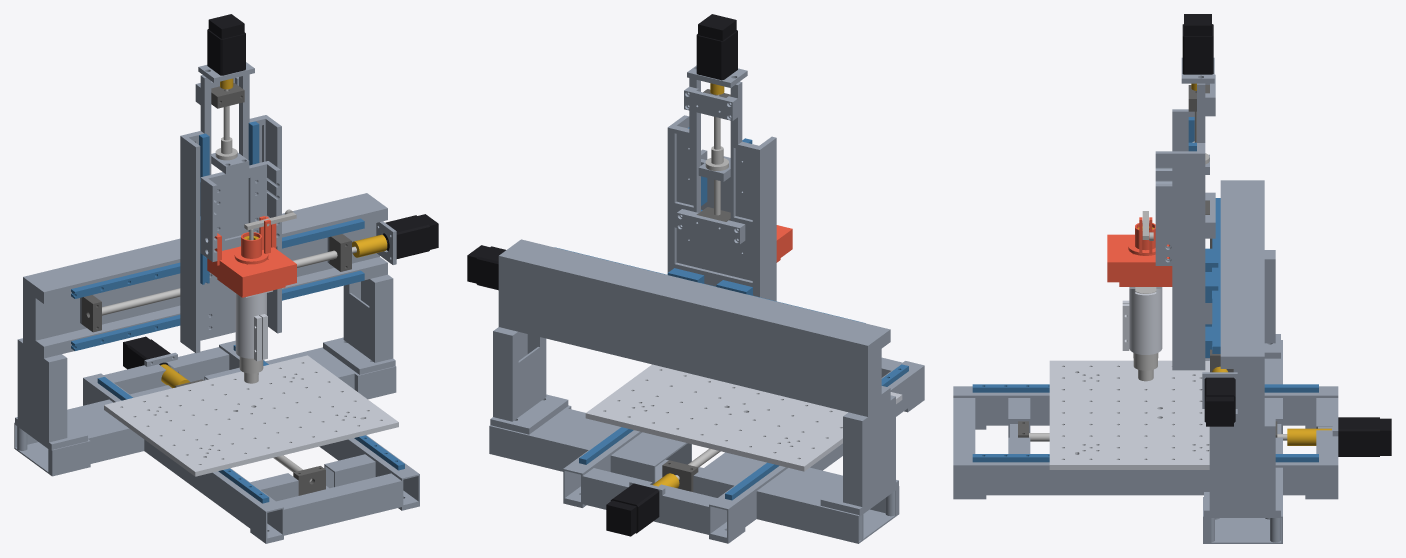
File: standard_center.glb
3 views of the same model, side by side, from view 1: azimuth 30°, elevation 25°; view 2: azimuth 150°, elevation 25°; view 3: azimuth 270°, elevation 25° (orthographic). The views are drawn at different scales.
Visible parts, largest first — view 1: table, beam, x_carriage, frame_cross_rear, z_slide, upright_R, upright_L, frame_longeron_L, frame_cross_front, tooldock_master, frame_cross_end, frame_longeron_R (+19 smaller); view 2: beam, table, frame_cross_rear, x_carriage, upright_R, upright_L, frame_longeron_L, frame_cross_end, z_motor, y_motor, frame_longeron_R, z_bf_bridge (+7 smaller); view 3: table, beam, frame_longeron_R, x_carriage, upright_R, frame_longeron_L, frame_cross_rear, head_mount, tooldock_master, y_motor, z_slide, z_motor (+10 smaller).
Boxes of the visible parts, <box> form: table: <box>104,355,398,476</box>; beam: <box>23,193,396,358</box>; x_carriage: <box>180,74,281,353</box>; frame_cross_rear: <box>14,347,396,476</box>; z_slide: <box>200,161,280,261</box>; upright_R: <box>323,274,395,374</box>; upright_L: <box>15,338,87,449</box>; frame_longeron_L: <box>83,373,283,543</box>; frame_cross_front: <box>276,473,401,535</box>; tooldock_master: <box>207,216,296,296</box>; frame_cross_end: <box>104,347,229,394</box>; frame_longeron_R: <box>219,340,419,510</box>; beam: <box>498,239,890,416</box>; table: <box>585,364,902,471</box>; frame_cross_rear: <box>489,405,899,543</box>; x_carriage: <box>667,78,776,301</box>; upright_R: <box>490,327,568,434</box>; upright_L: <box>820,395,898,515</box>; frame_longeron_L: <box>709,361,924,543</box>; frame_cross_end: <box>582,468,717,534</box>; z_motor: <box>696,14,737,80</box>; y_motor: <box>606,483,659,536</box>; frame_longeron_R: <box>563,427,642,507</box>; z_bf_bridge: <box>676,209,745,244</box>; table: <box>1049,360,1209,469</box>; beam: <box>1202,180,1264,426</box>; frame_longeron_R: <box>953,456,1338,499</box>; x_carriage: <box>1172,83,1205,370</box>; upright_R: <box>1204,417,1280,516</box>; frame_longeron_L: <box>953,386,1338,429</box>; frame_cross_rear: <box>1203,340,1282,543</box>; head_mount: <box>1122,287,1162,354</box>; tooldock_master: <box>1107,234,1172,282</box>; y_motor: <box>1338,417,1391,456</box>; z_slide: <box>1155,151,1172,265</box>; z_motor: <box>1182,14,1213,74</box>.
Size of the model in its own units: 857 by 883 by 797.
